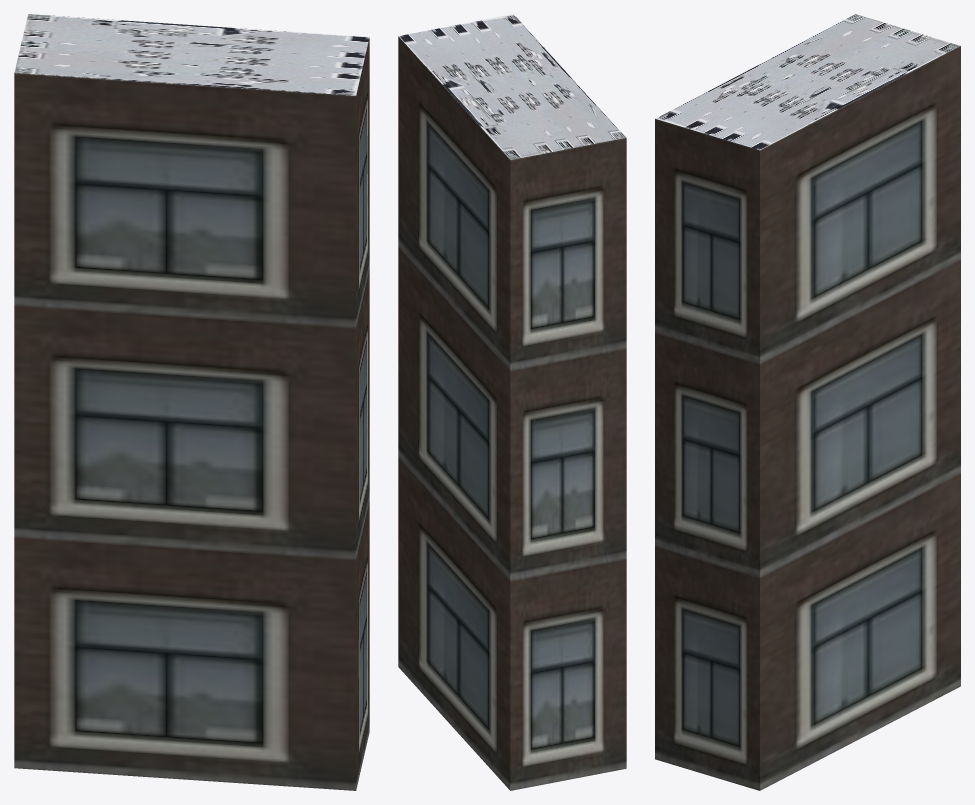
File: ResTex__1928.fbx
3 renders of one model, left to right at view 1: azimuth 30°, elevation 25°; view 2: azimuth 150°, elevation 25°; view 3: azimuth 270°, elevation 25°, orthographic. The views are drawn at different scales.
Visible parts, largest first — view 1: CityEngineMaterial_16_m, CityEngineMaterial_15_m; view 2: CityEngineMaterial_16_m, CityEngineMaterial_15_m; view 3: CityEngineMaterial_16_m, CityEngineMaterial_15_m.
Boxes of the visible parts, box(x1,y1,x2,y2) form: CityEngineMaterial_16_m: box(14, 38, 369, 790); CityEngineMaterial_15_m: box(14, 14, 369, 95); CityEngineMaterial_16_m: box(398, 36, 626, 790); CityEngineMaterial_15_m: box(398, 14, 626, 159); CityEngineMaterial_16_m: box(655, 46, 960, 790); CityEngineMaterial_15_m: box(655, 14, 960, 150).
Bounding box in the file's own units: 4.11 × 9 × 3.89.
2 materials, 2 textured.
